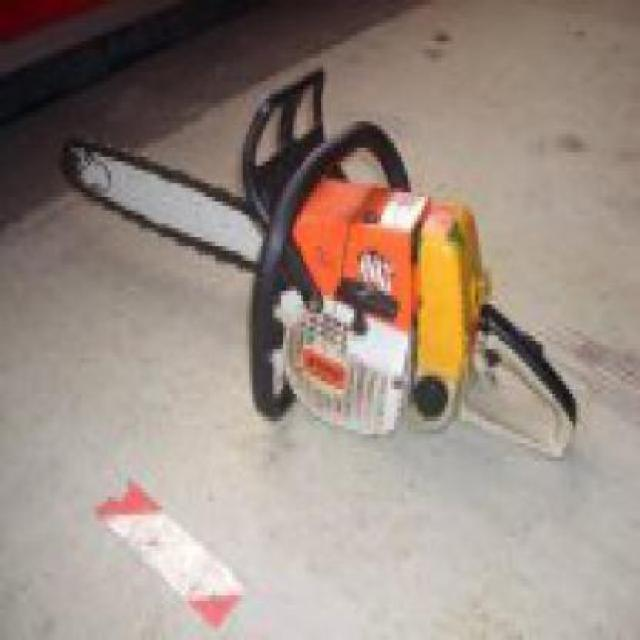Chainsaw: (57, 64, 586, 456)
